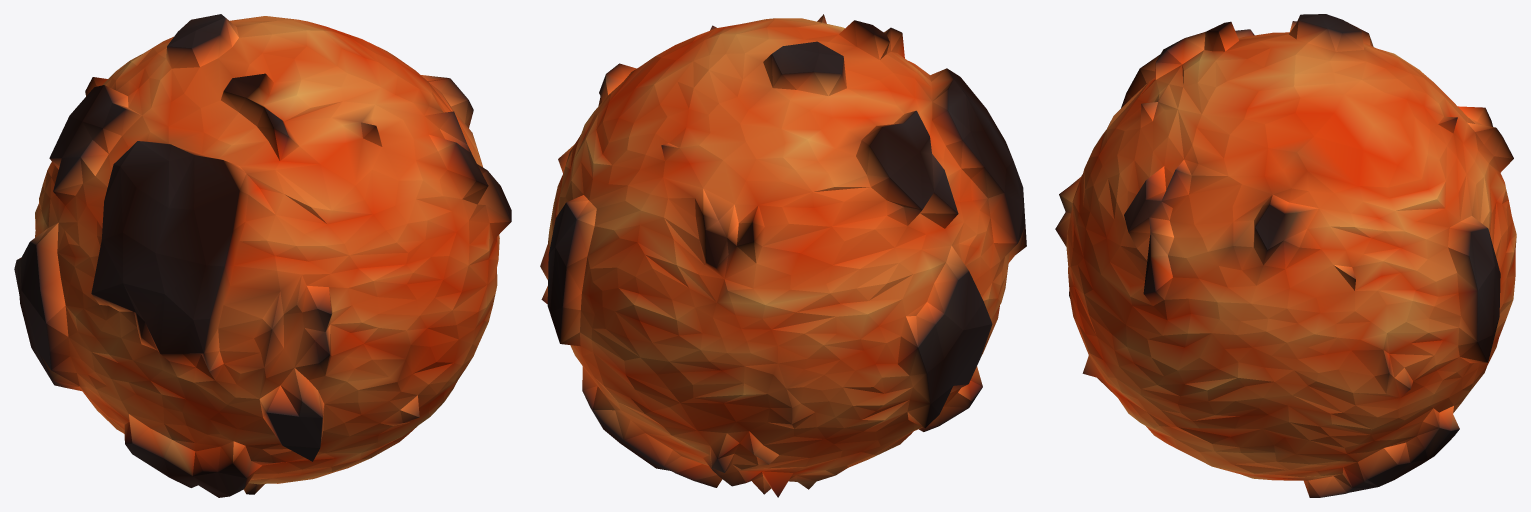
The model's file is barren_20.fbx.
The picture shows the model from 3 angles, left to right: view 1: azimuth 30°, elevation 25°; view 2: azimuth 150°, elevation 25°; view 3: azimuth 270°, elevation 25°; orthographic projection. The views are drawn at different scales.
Visible parts, largest first — view 1: filecache1; view 2: filecache1; view 3: filecache1.
Boxes of the visible parts, x1,y1,x2,y2 form: filecache1: (14,14,511,497); filecache1: (540,14,1026,497); filecache1: (1055,14,1516,497).
Size of the model in its own units: 2.1 by 2.16 by 2.07.
